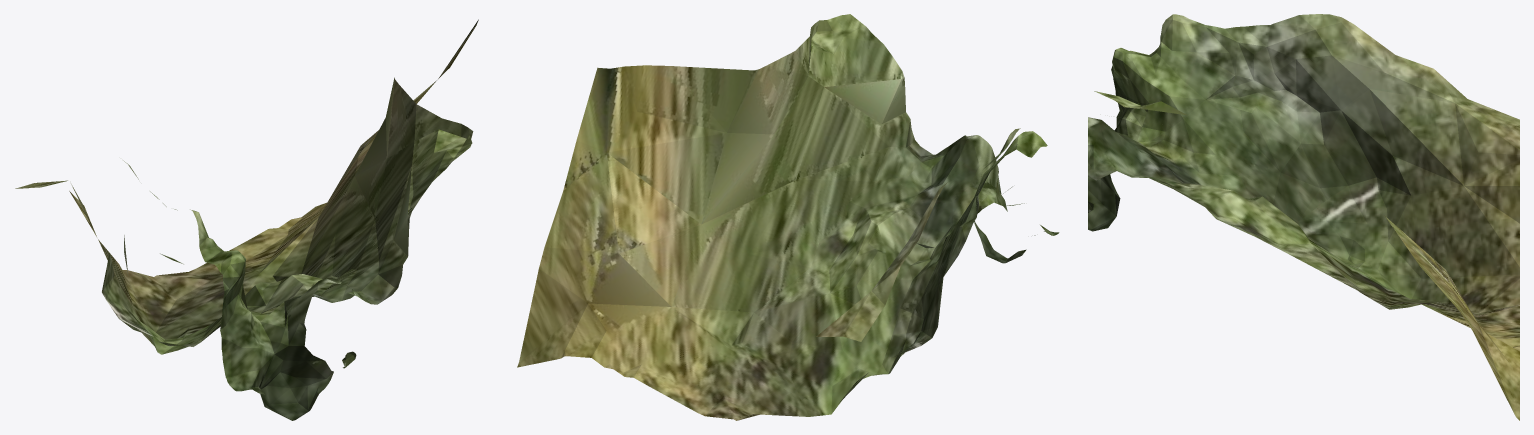
The picture shows the model from 3 angles, left to right: view 1: azimuth 30°, elevation 25°; view 2: azimuth 150°, elevation 25°; view 3: azimuth 270°, elevation 25°; orthographic projection. The views are drawn at different scales.
Size of the model in its own units: 2.95 by 2.13 by 2.95.
4 materials, 4 textured.
